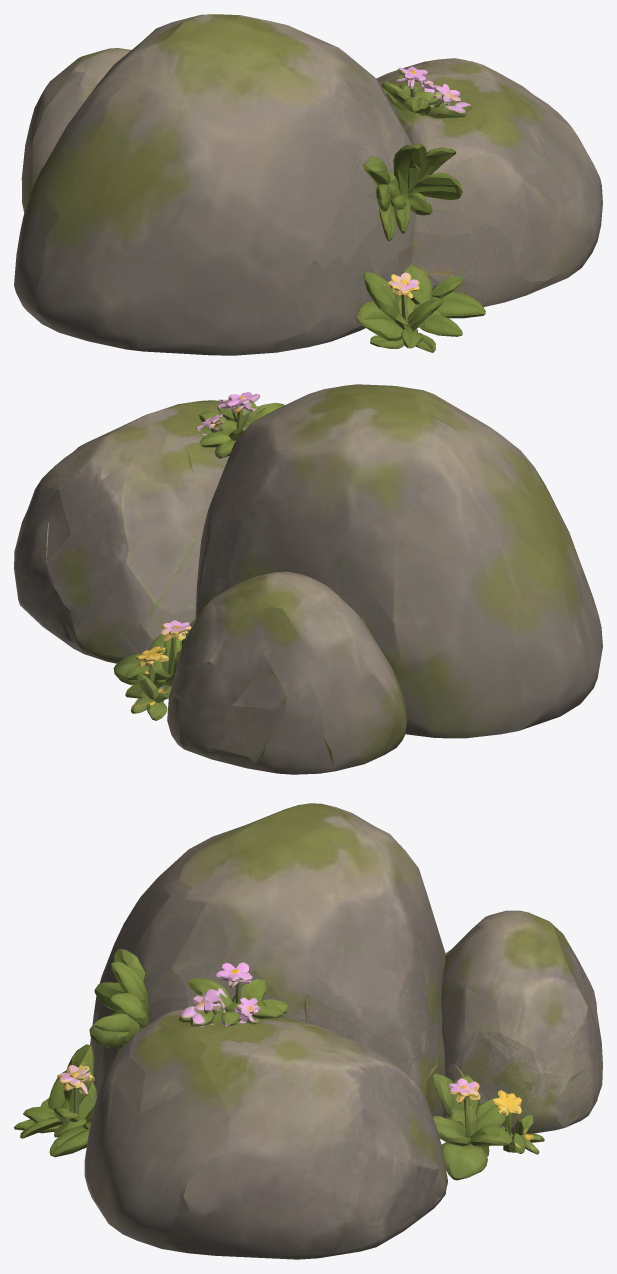
The model's file is graniteBoulder.glb.
3 views of the same model, one above another, from view 1: azimuth 30°, elevation 25°; view 2: azimuth 150°, elevation 25°; view 3: azimuth 270°, elevation 25° (orthographic). The views are drawn at different scales.
Parts seen in each view (by area): view 1: Mesh_0; view 2: Mesh_0; view 3: Mesh_0.
Boxes of the visible parts, x1,y1,x2,y2 form: Mesh_0: [14, 14, 602, 355]; Mesh_0: [14, 384, 602, 774]; Mesh_0: [14, 803, 602, 1259].
Size of the model in its own units: 1.2 by 0.5415 by 1.08.
Materials: 1 (1 with a texture image).
